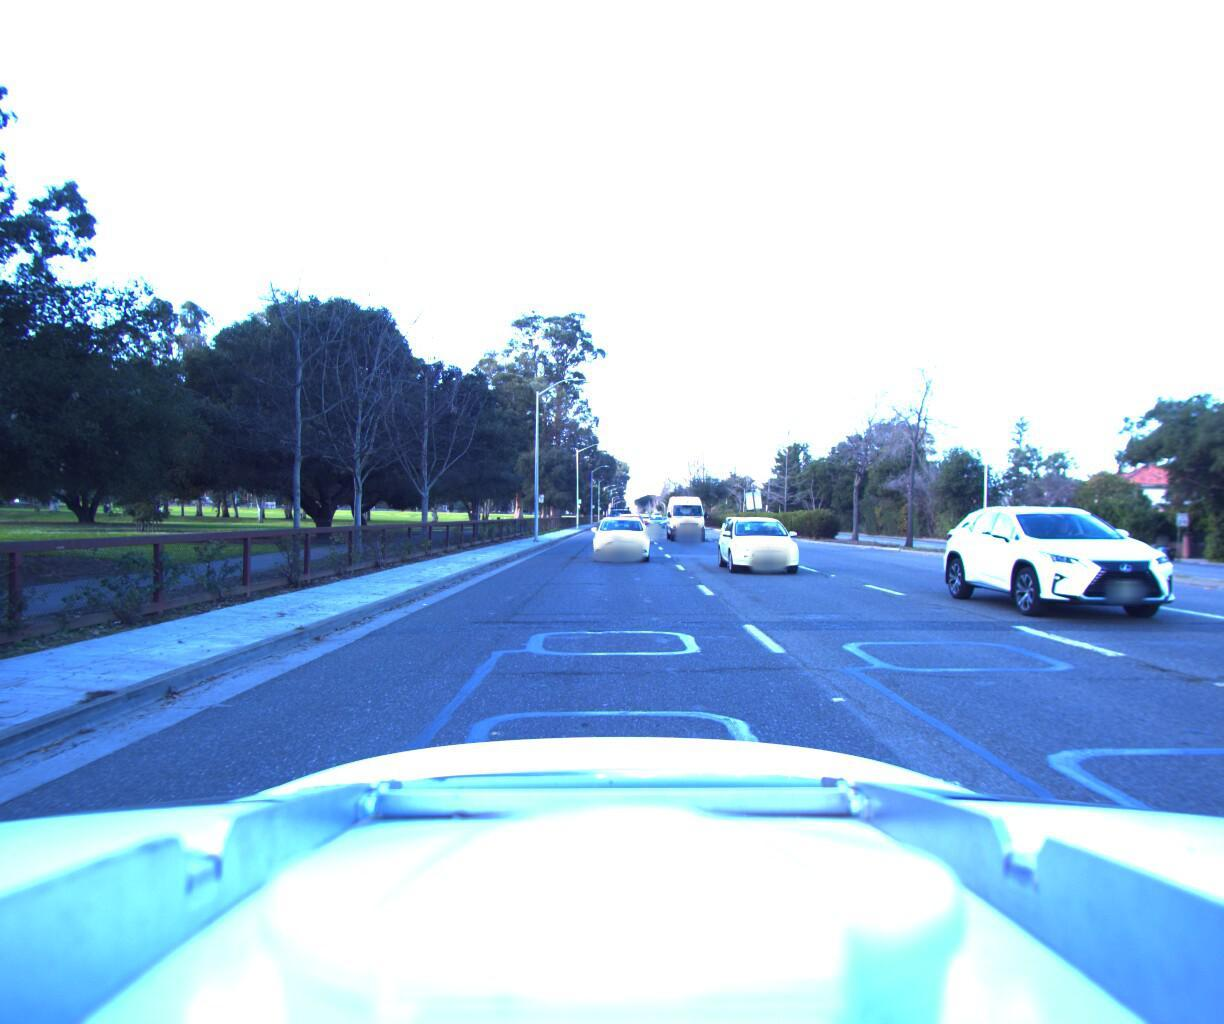car: (963, 484, 1224, 639), (718, 511, 820, 577), (590, 510, 651, 559), (665, 491, 708, 538), (614, 509, 651, 542), (605, 498, 633, 531)
